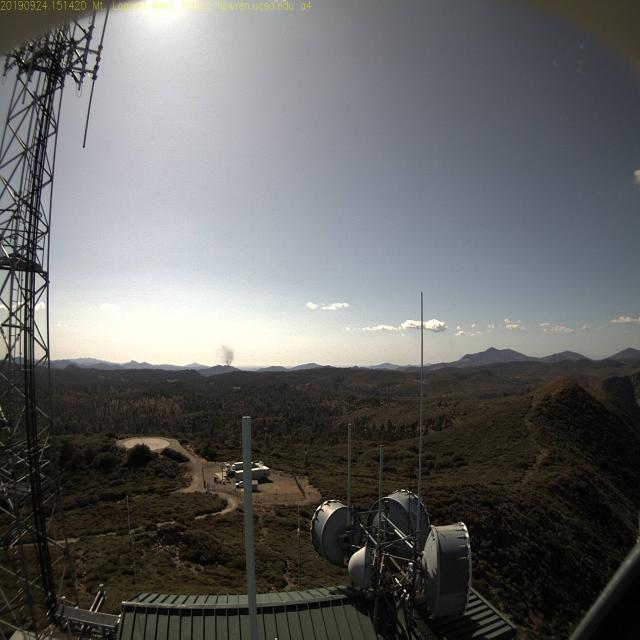smoke: (215, 338, 237, 372)
